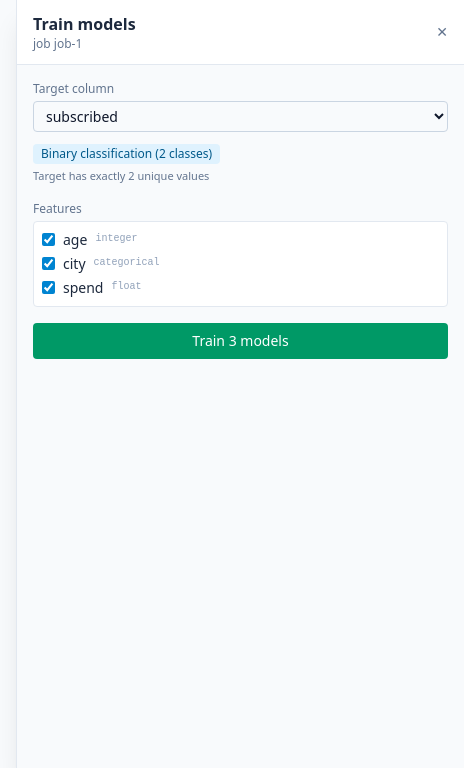
MLPanel › shows the downsampled note when report has it
Click the button with test id "ml-run". click: x=240, y=340
box: left=33, top=322, right=448, bottom=358
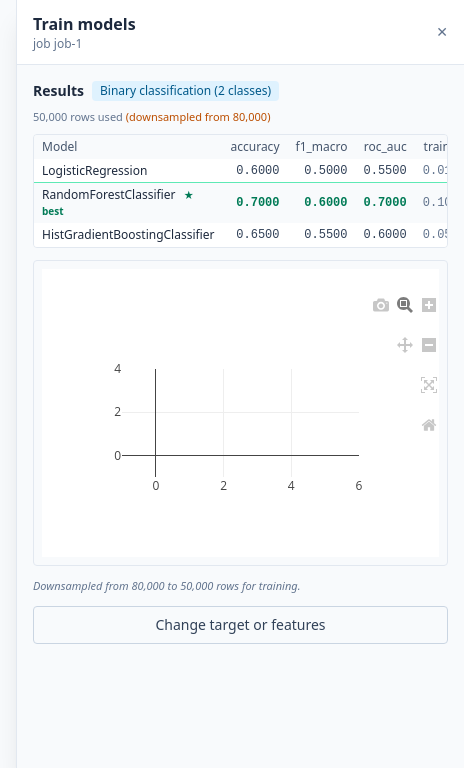
expect the element with test id "ml-results-section" is shown: met
expect the text "Downsampled from 80,000 to 50,000 rows for training." is shown: met, box left=33, top=578, right=300, bottom=592
